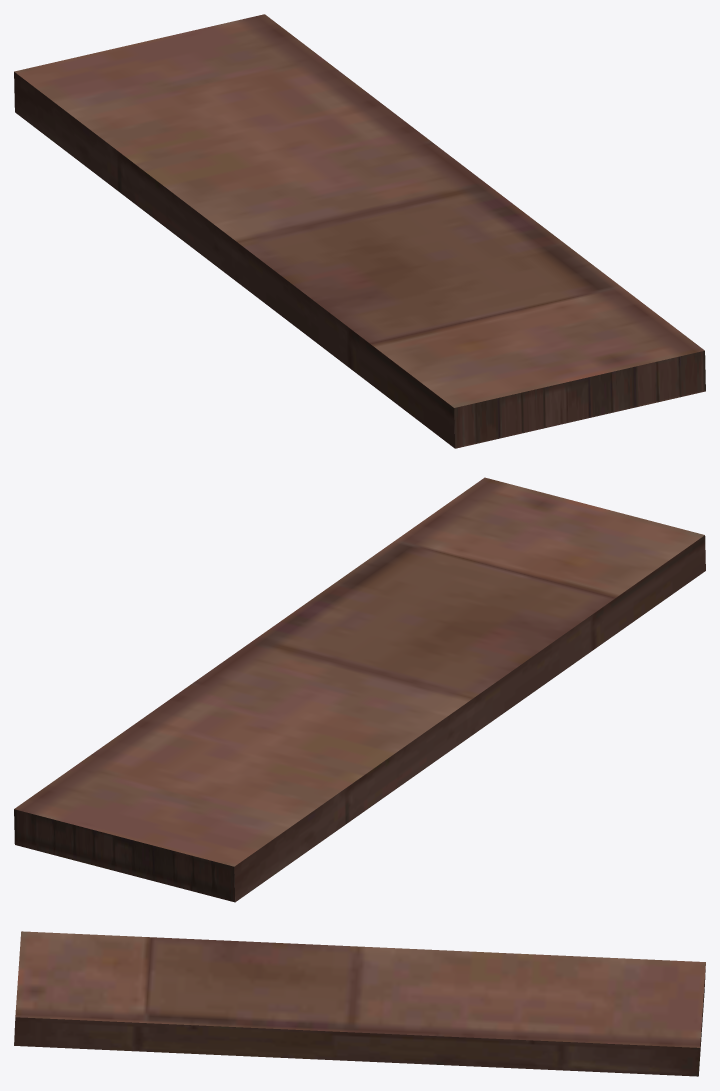
Rendered from woodBlock2 (29).fbx.
3 views of the same model, one above another, from view 1: azimuth 30°, elevation 25°; view 2: azimuth 150°, elevation 25°; view 3: azimuth 270°, elevation 25° (orthographic). The views are drawn at different scales.
Visible parts, largest first — view 1: woodBlock2 (29); view 2: woodBlock2 (29); view 3: woodBlock2 (29).
Part boxes in pixels (x1=…): woodBlock2 (29): x1=14, y1=14, x2=705, y2=448; woodBlock2 (29): x1=14, y1=477, x2=705, y2=902; woodBlock2 (29): x1=14, y1=931, x2=705, y2=1076.
Bounding box in the file's own units: 15.92 × 3.42 × 46.73.
